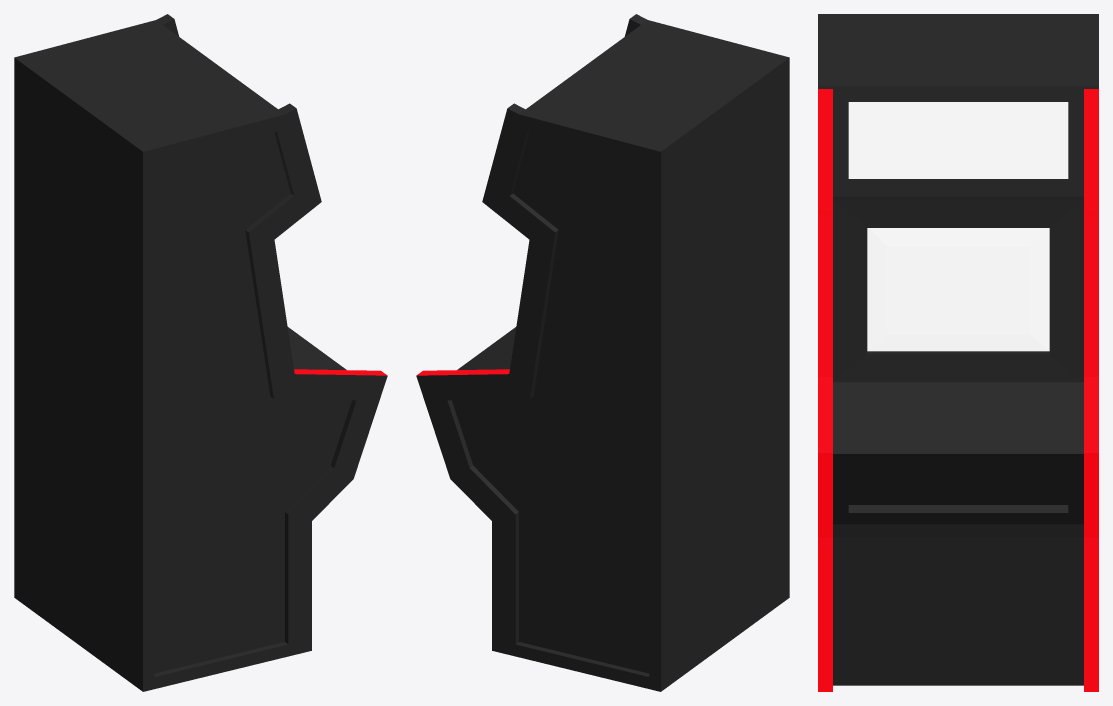
Rendered from arcade2.gltf.
3 renders of one model, left to right at view 1: azimuth 30°, elevation 25°; view 2: azimuth 150°, elevation 25°; view 3: azimuth 270°, elevation 25°, orthographic. The views are drawn at different scales.
Visible parts, largest first — view 1: Arcade; view 2: Arcade; view 3: Arcade.
Part boxes in pixels (<box>): Arcade: <box>14,14,387,691</box>; Arcade: <box>416,14,789,691</box>; Arcade: <box>818,14,1098,691</box>.
Size of the model in its own units: 1.09 by 2.32 by 0.9937.
